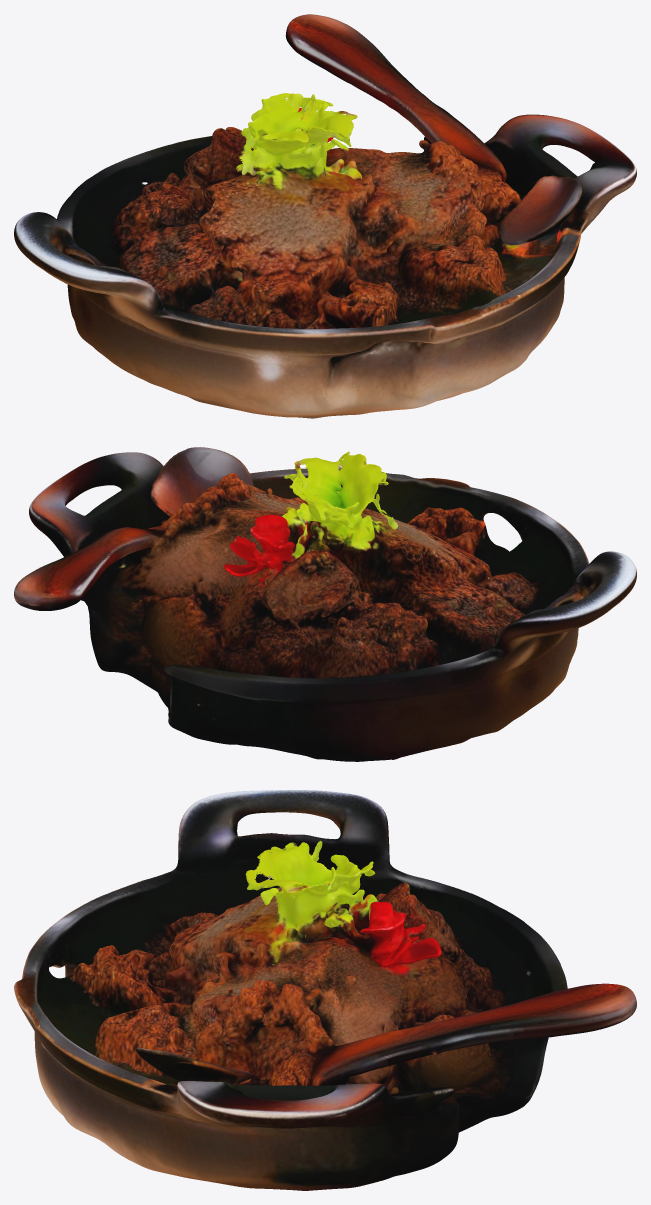
Rendered from makanan_rendang.glb.
3 views of the same model, one above another, from view 1: azimuth 30°, elevation 25°; view 2: azimuth 150°, elevation 25°; view 3: azimuth 270°, elevation 25° (orthographic). The views are drawn at different scales.
Visible parts, largest first — view 1: tripo_node_59d285d0-ea8d-4d11-93d1-332fe5da09b1_0; view 2: tripo_node_59d285d0-ea8d-4d11-93d1-332fe5da09b1_0; view 3: tripo_node_59d285d0-ea8d-4d11-93d1-332fe5da09b1_0.
Part boxes in pixels (left/top/right/bottom): tripo_node_59d285d0-ea8d-4d11-93d1-332fe5da09b1_0: left=14, top=14, right=636, bottom=418; tripo_node_59d285d0-ea8d-4d11-93d1-332fe5da09b1_0: left=14, top=447, right=636, bottom=761; tripo_node_59d285d0-ea8d-4d11-93d1-332fe5da09b1_0: left=14, top=790, right=636, bottom=1190.
Size of the model in its own units: 1 by 0.4234 by 0.8833.
Materials: 1 (1 with a texture image).
